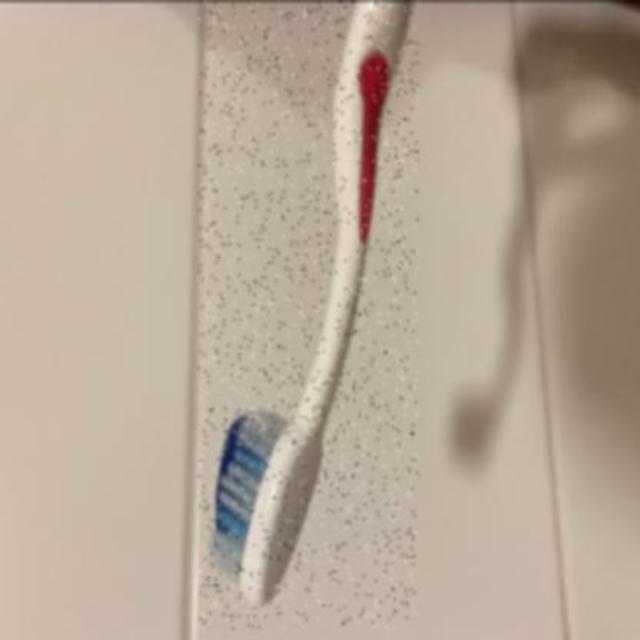toothbrush: (198, 0, 418, 628)
